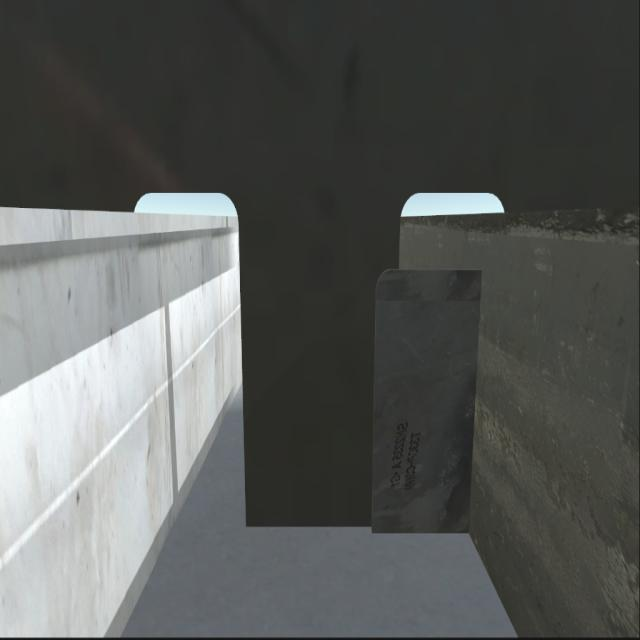fillet_yong_jeop_jang: (239, 517, 469, 543)
longi_yong_jeop_jang: (456, 267, 488, 537)
plate_CP05: (372, 269, 484, 537)
